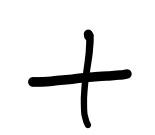plus: (27, 30, 131, 128)
